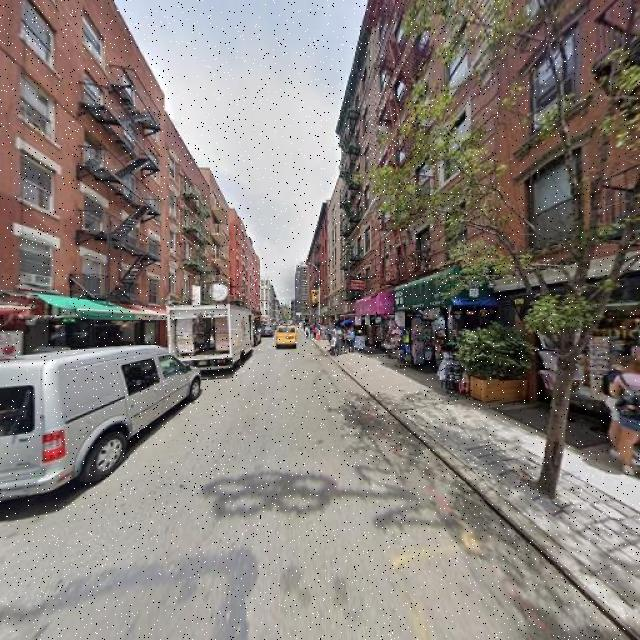Building: (1, 1, 168, 404), (489, 1, 640, 424), (343, 1, 485, 378), (172, 123, 228, 353), (236, 215, 258, 334), (310, 218, 326, 330), (329, 178, 340, 334)
